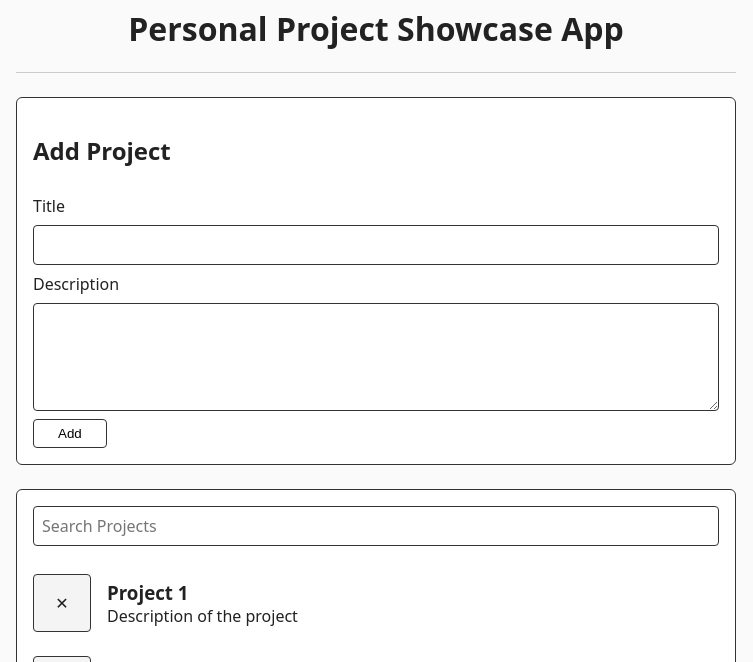
Test: Portfolio App › shows empty message when nothing matches
Type "zzz" into the field with placeholder "Search Projects" at {"x": 376, "y": 526}, box left=33, top=506, right=719, bottom=546
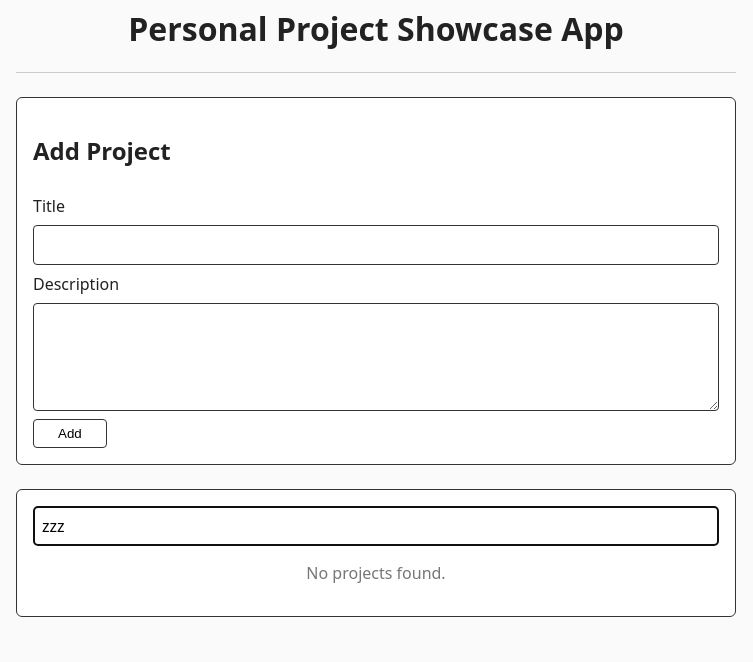
Expected: the text "No projects found." is shown, left=306, top=562, right=446, bottom=584
